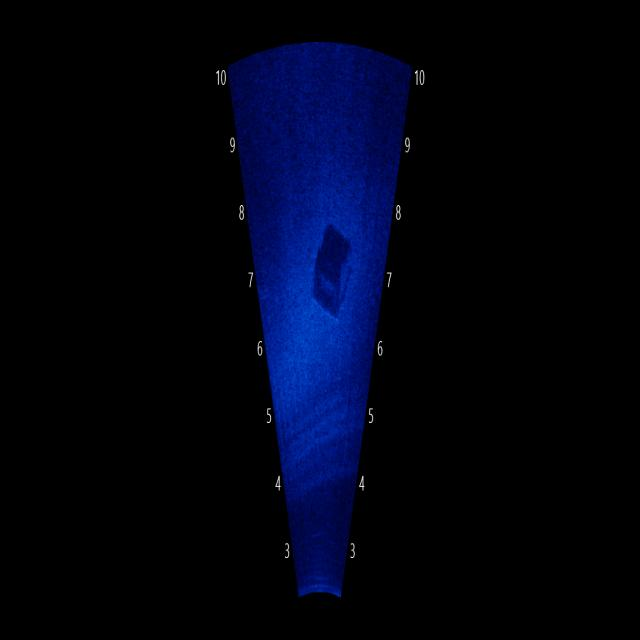square: (300, 188, 362, 336)
